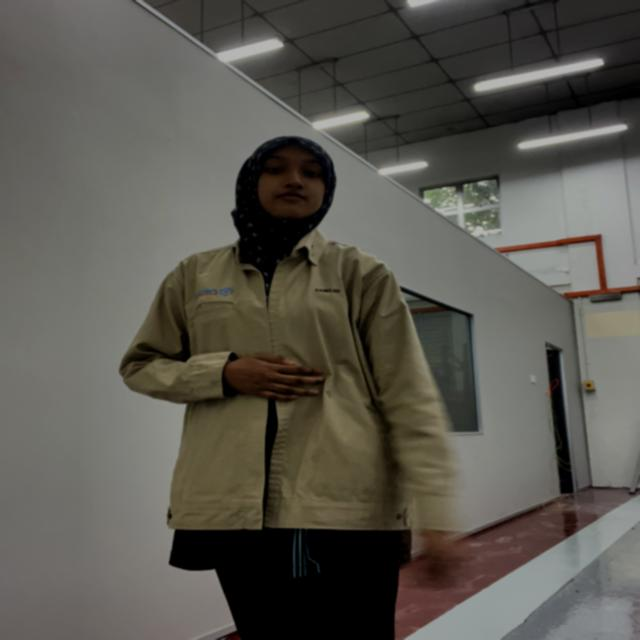person_with_labcoat: (120, 137, 459, 640)
